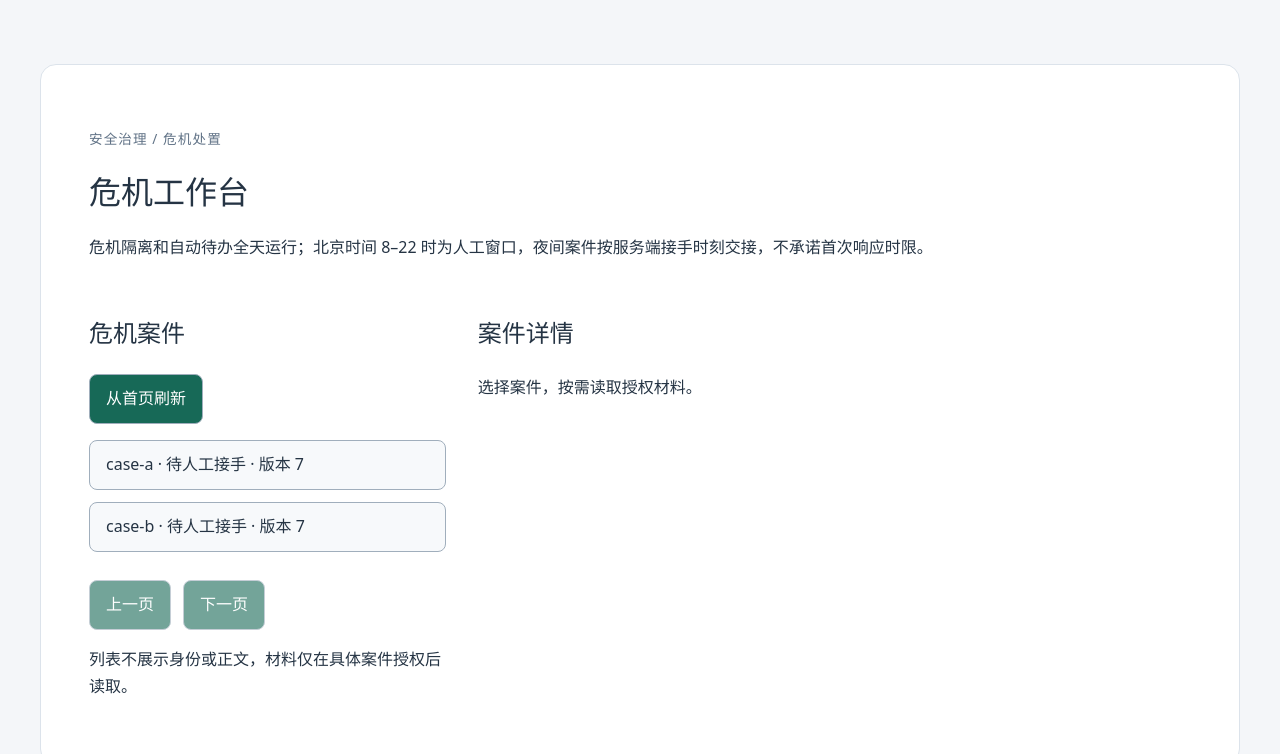
it: T030 危机工作台案件、证据及安全生命周期 › 列表不读身份，详情按需加载，学号必须显式显示且关闭即清除
The image size is (1280, 754).
Check: the text "测试完整学号" is not shown
Click the button "case-a · 待人工接手 · 版本 7" at (267, 465), box x1=89 y1=440 x2=446 y2=490
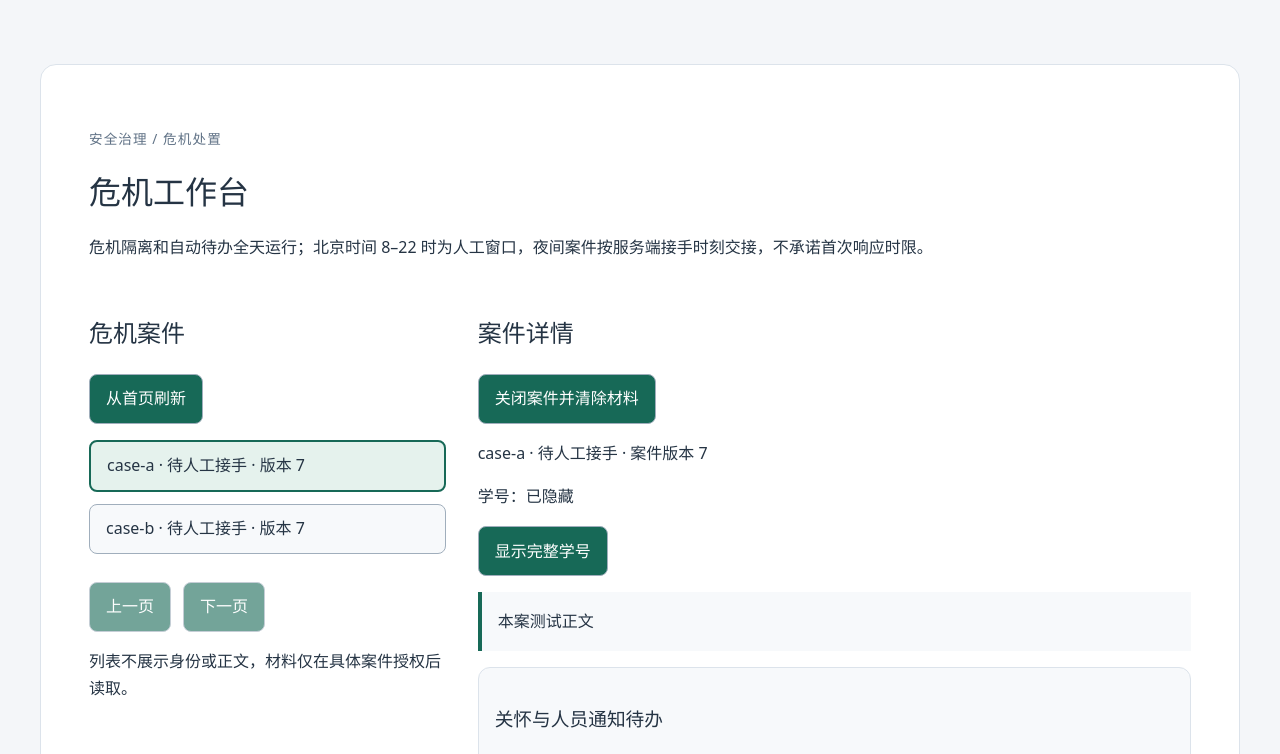
Check: the text "测试完整学号" is not shown
Check: the text "本案测试正文" is shown, box x1=478 y1=592 x2=1191 y2=652
Click the button "显示完整学号" at (543, 551), box x1=478 y1=526 x2=608 y2=576
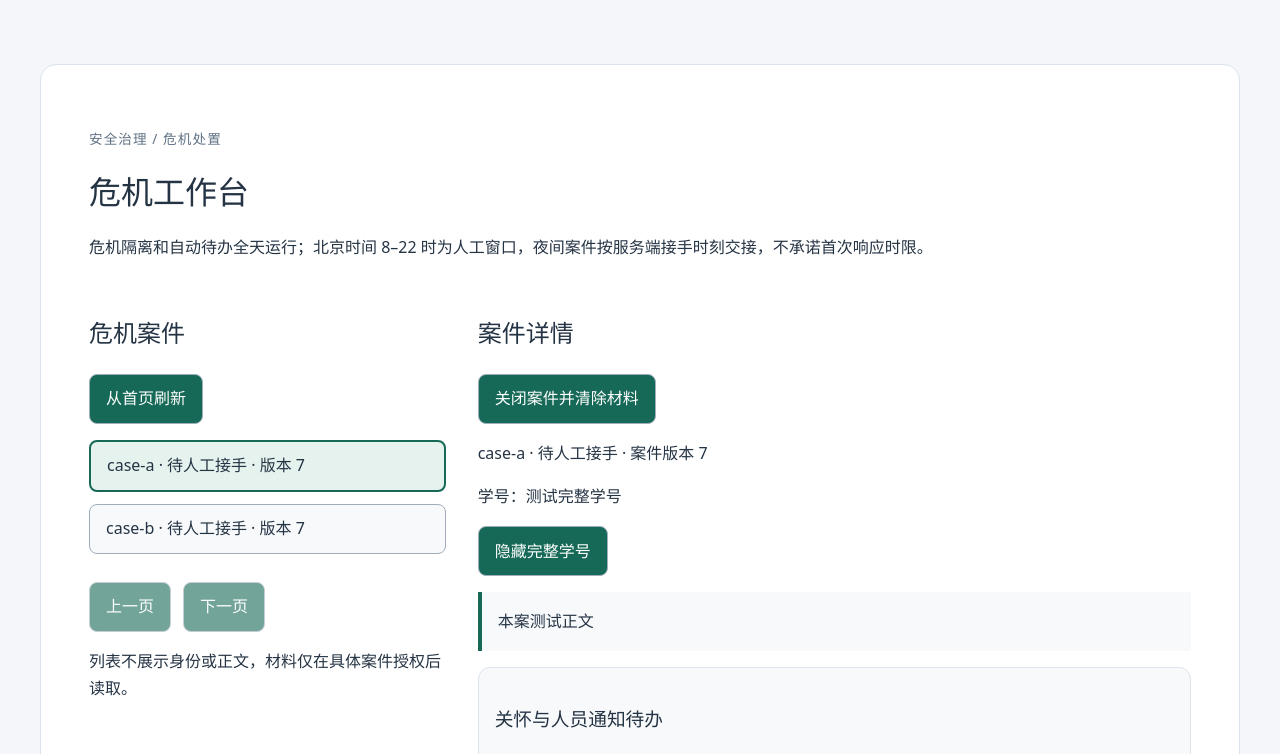
Check: the text "测试完整学号" is shown, box x1=526 y1=485 x2=622 y2=507
Click the button "关闭案件并清除材料" at (567, 399), box x1=478 y1=374 x2=656 y2=424
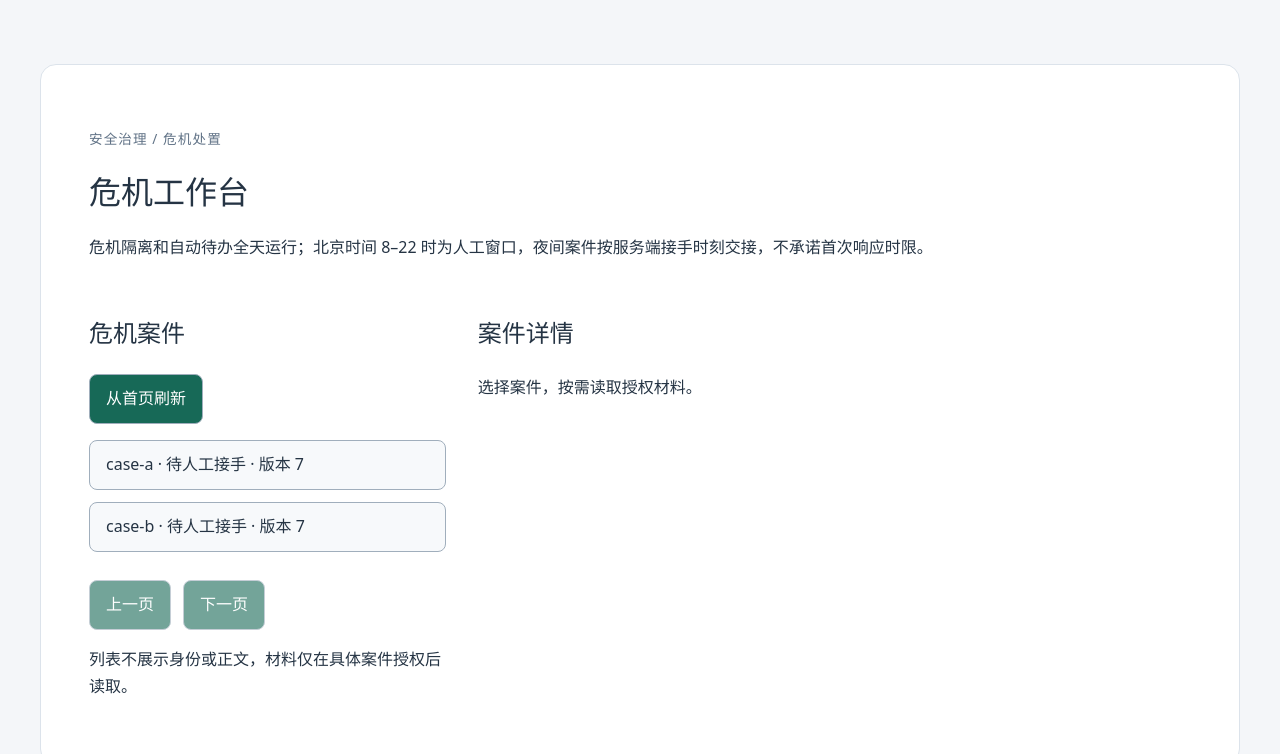
Check: the text "本案测试正文" is gone
Check: the text "测试完整学号" is gone
